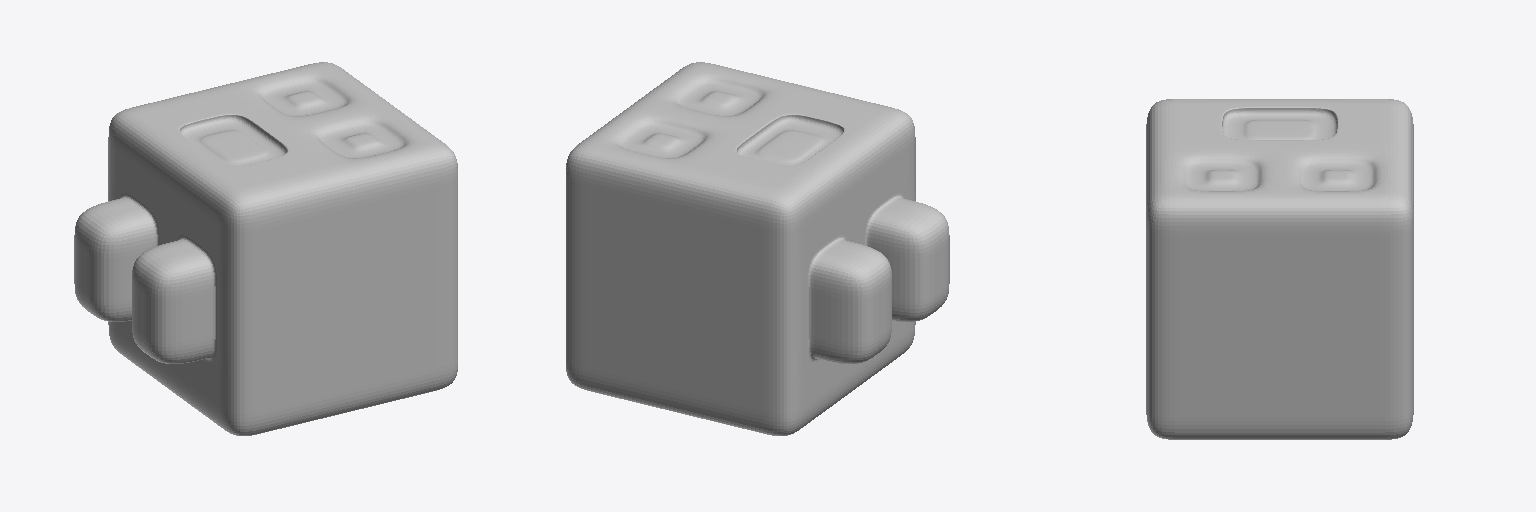
The model's file is char.obj.
3 renders of one model, left to right at view 1: azimuth 30°, elevation 25°; view 2: azimuth 150°, elevation 25°; view 3: azimuth 270°, elevation 25°, orthographic.
Visible parts, largest first — view 1: Cube_Cube.001; view 2: Cube_Cube.001; view 3: Cube_Cube.001.
Part boxes in pixels (x1,y1,x2,y2): Cube_Cube.001: (74, 62, 457, 435); Cube_Cube.001: (566, 62, 949, 435); Cube_Cube.001: (1146, 99, 1413, 439).
Size of the model in its own units: 2.47 by 2 by 2.